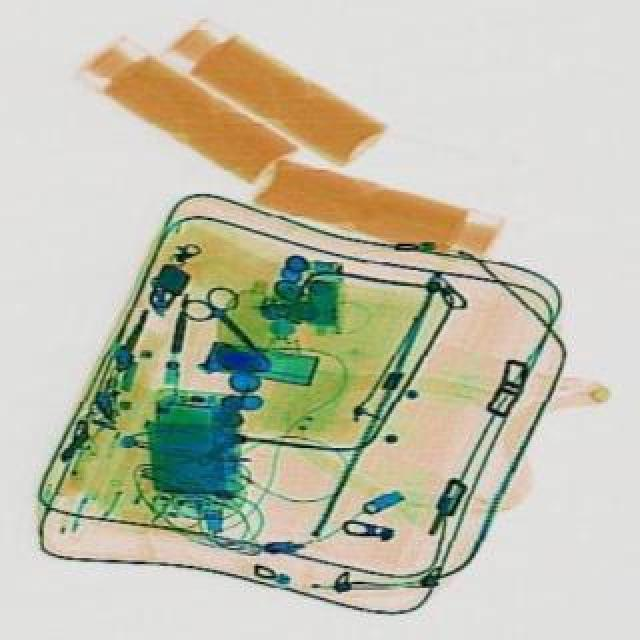pliers: (180, 278, 292, 382)
